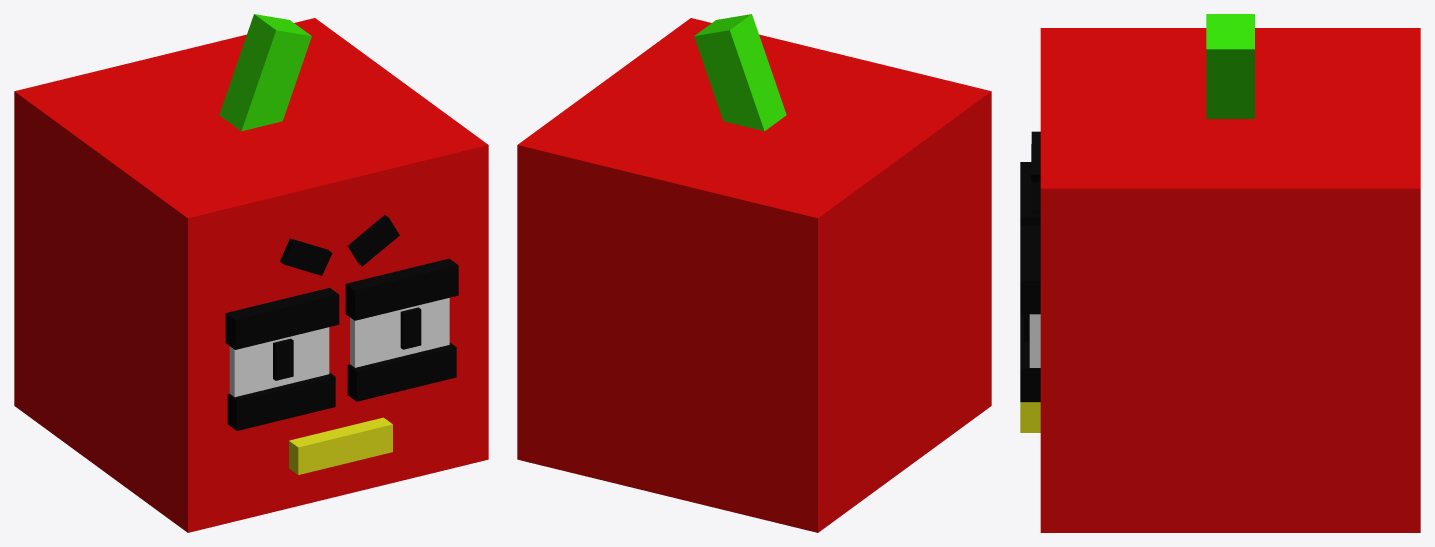
The model's file is Cherry.glb.
3 views of the same model, side by side, from view 1: azimuth 30°, elevation 25°; view 2: azimuth 150°, elevation 25°; view 3: azimuth 270°, elevation 25° (orthographic). The views are drawn at different scales.
Parts seen in each view (by area): view 1: Cube; view 2: Cube; view 3: Cube.
Part boxes in pixels (x1,y1,x2,y2): Cube: [14, 14, 488, 532]; Cube: [517, 14, 991, 532]; Cube: [1020, 14, 1420, 532].
Bounding box in the file's own units: 2 × 2.59 × 2.11.
